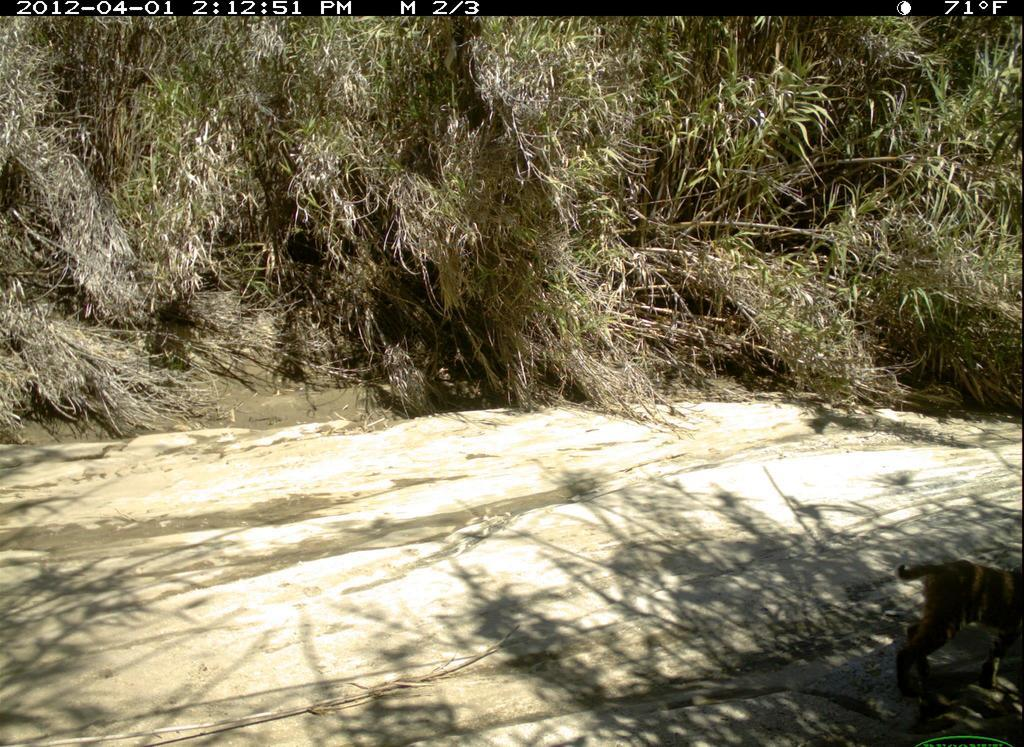bobcat: (877, 546, 1023, 717)
